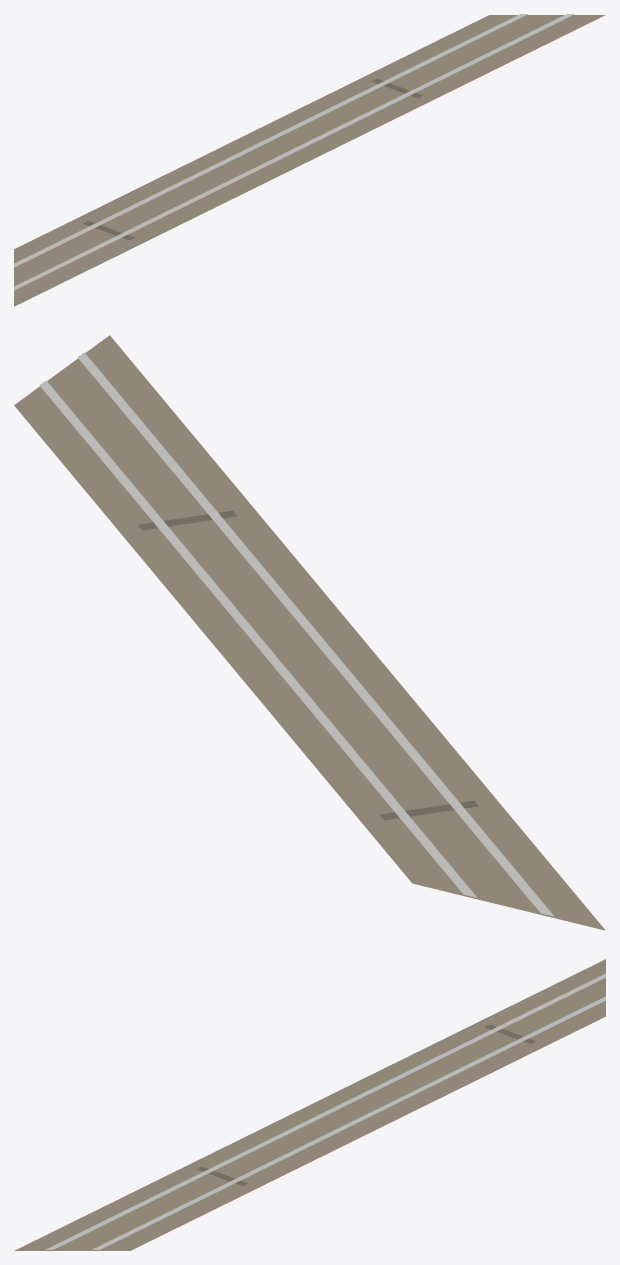
3 views of the same model, one above another, from view 1: azimuth 90°, elevation 25°; view 2: azimuth 150°, elevation 25°; view 3: azimuth 270°, elevation 25° (orthographic). The views are drawn at different scales.
Visible parts, largest first — view 1: rail; view 2: rail; view 3: rail.
Part boxes in pixels (bbox=[...]): rail: bbox=[14, 14, 605, 306]; rail: bbox=[14, 335, 605, 930]; rail: bbox=[14, 959, 605, 1250].
Size of the model in its own units: 28.07 by 0.04 by 24.06.
